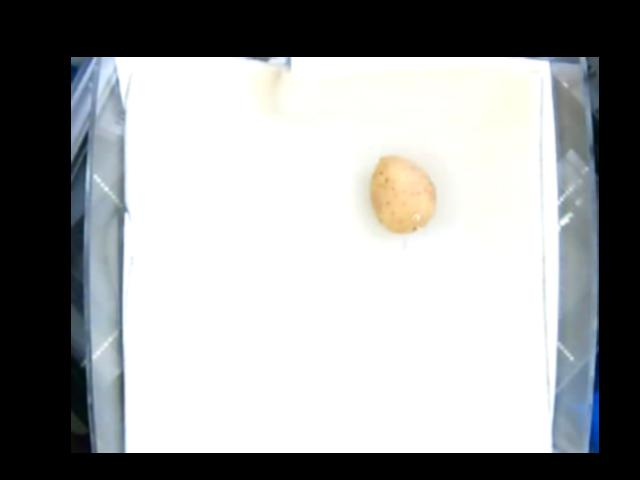Potato: (369, 153, 435, 233)
